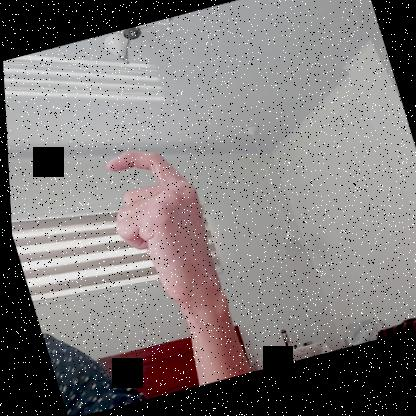X: (93, 135, 233, 329)
